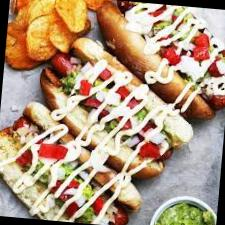Completos: (0, 104, 145, 225), (88, 0, 225, 113)
